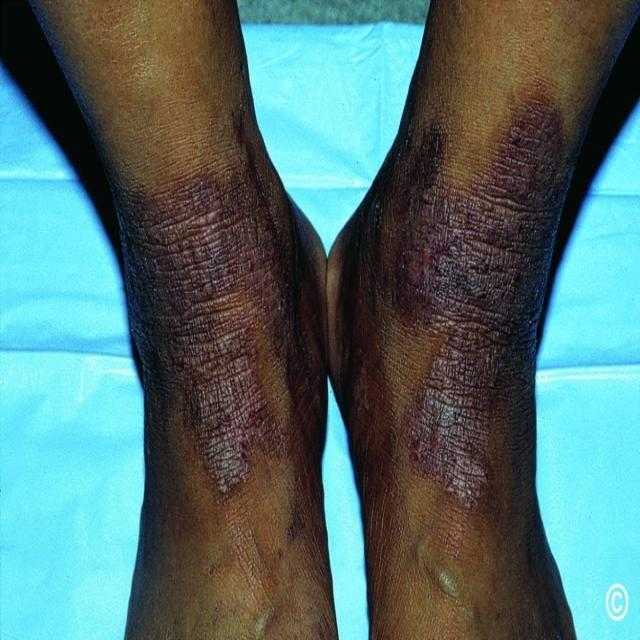Eczema: (399, 97, 565, 515), (126, 131, 304, 468)
